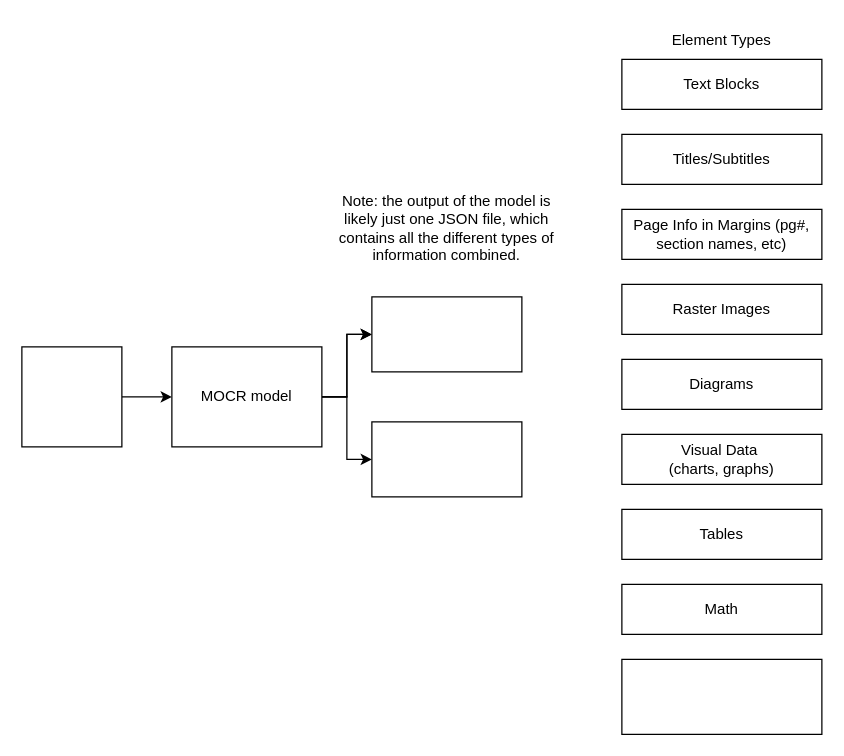
Image size: 844x756. Some labels were removed from this diagram. The shapes that lost their labels are listed below. From the top down, each one's centre as x and y in pixels, then its label:
the point at 446,334: Layout Info Bounding Boxes
the point at 71,396: Document
the point at 446,459: OCR Text
the point at 721,696: Compound Blocks (Comments, Asides, Captions)
